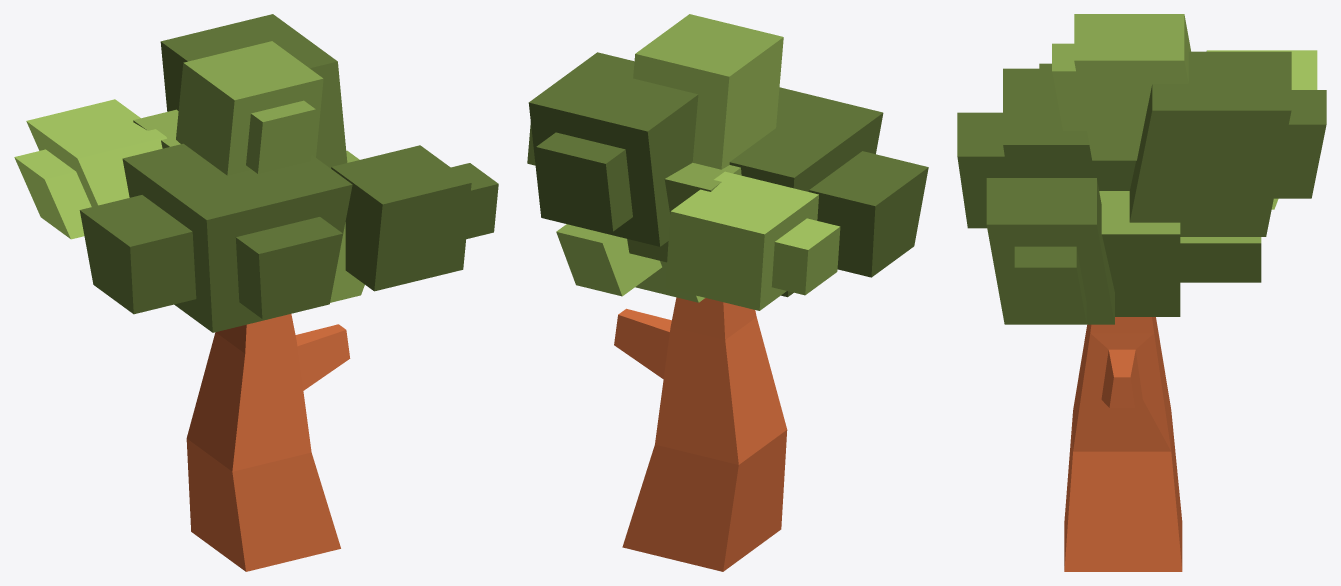
The model's file is treeBlock.fbx.
3 renders of one model, left to right at view 1: azimuth 30°, elevation 25°; view 2: azimuth 150°, elevation 25°; view 3: azimuth 270°, elevation 25°, orthographic. The views are drawn at different scales.
Visible parts, largest first — view 1: pCube3, pCube1, pCube7, pCube6, pCube8, pCube5, pCube2, pCube4; view 2: pCube1, pCube5, pCube3, pCube8, pCube6, pCube2, pCube4; view 3: pCube5, pCube1, pCube7, pCube6, pCube3, pCube2, pCube8.
Part boxes in pixels (x1,y1,x2,y2): pCube3: [79, 143, 352, 332]; pCube1: [186, 314, 350, 571]; pCube7: [331, 145, 498, 291]; pCube6: [176, 41, 323, 175]; pCube8: [14, 99, 166, 239]; pCube5: [160, 14, 347, 168]; pCube2: [330, 150, 364, 302]; pCube4: [133, 109, 180, 148]; pCube1: [614, 297, 787, 571]; pCube5: [528, 52, 698, 246]; pCube3: [729, 87, 928, 297]; pCube8: [665, 171, 840, 310]; pCube6: [633, 14, 783, 169]; pCube2: [556, 224, 704, 302]; pCube4: [627, 162, 741, 262]; pCube5: [1129, 51, 1326, 236]; pCube1: [1064, 317, 1182, 571]; pCube7: [986, 178, 1114, 324]; pCube6: [1052, 14, 1190, 160]; pCube3: [957, 63, 1135, 228]; pCube2: [1099, 191, 1261, 316]; pCube8: [1206, 50, 1317, 209].
Size of the model in its own units: 294 by 369 by 245.
